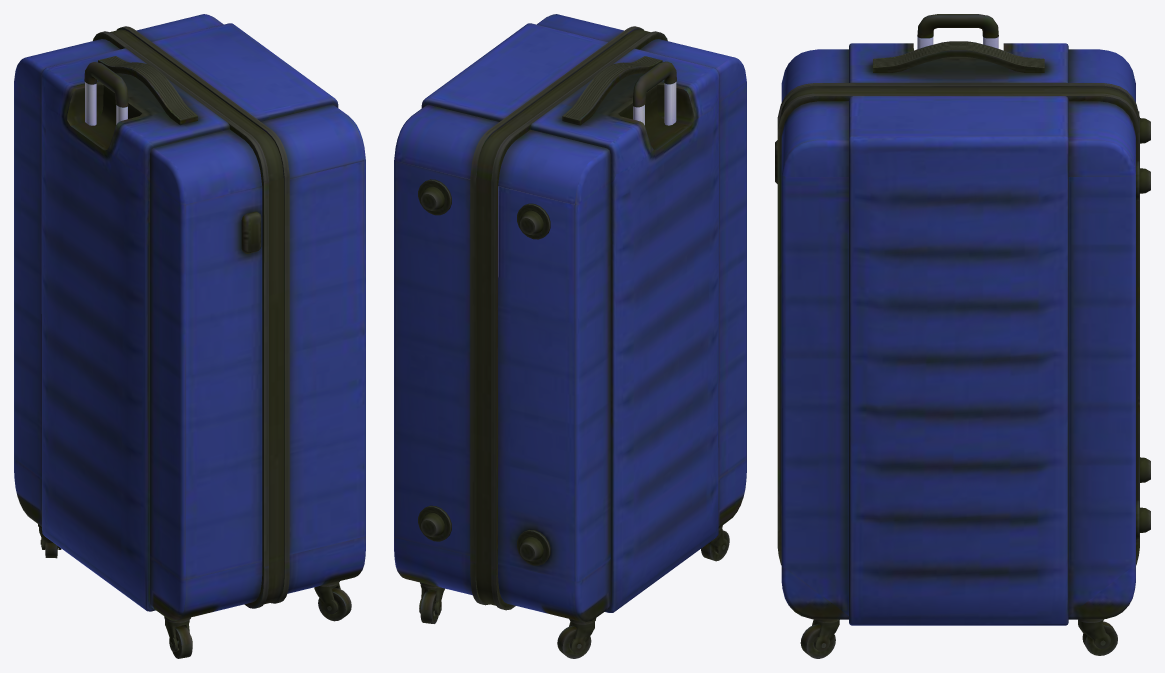
Rendered from suitcase.fbx.
3 views of the same model, side by side, from view 1: azimuth 30°, elevation 25°; view 2: azimuth 150°, elevation 25°; view 3: azimuth 270°, elevation 25° (orthographic). The views are drawn at different scales.
Visible parts, largest first — view 1: Suitcase_Merge_Material_0; view 2: Suitcase_Merge_Material_0; view 3: Suitcase_Merge_Material_0.
Boxes of the visible parts, x1,y1,x2,y2 form: Suitcase_Merge_Material_0: (14, 14, 365, 658); Suitcase_Merge_Material_0: (394, 14, 746, 658); Suitcase_Merge_Material_0: (775, 14, 1150, 658).
Size of the model in its own units: 36.15 by 90.49 by 54.95.
